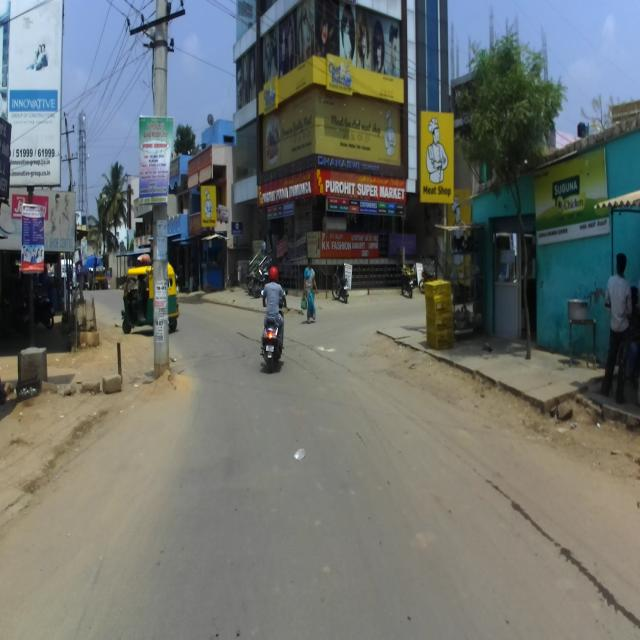electric pole ahead at: (124, 0, 184, 376)
motorcycle ahead at: (258, 315, 288, 373)
